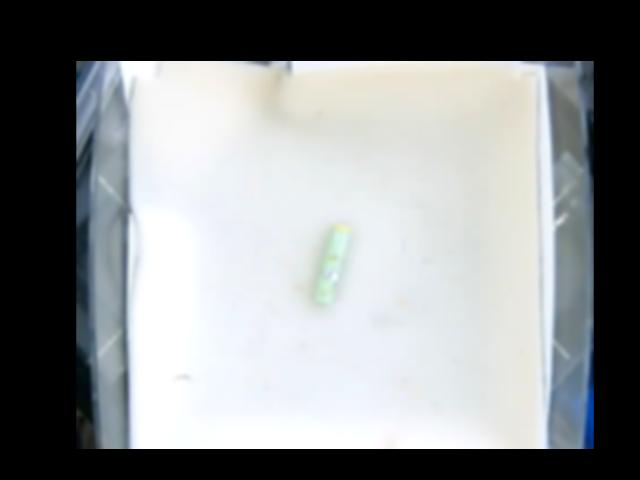Battery: (313, 224, 350, 305)
